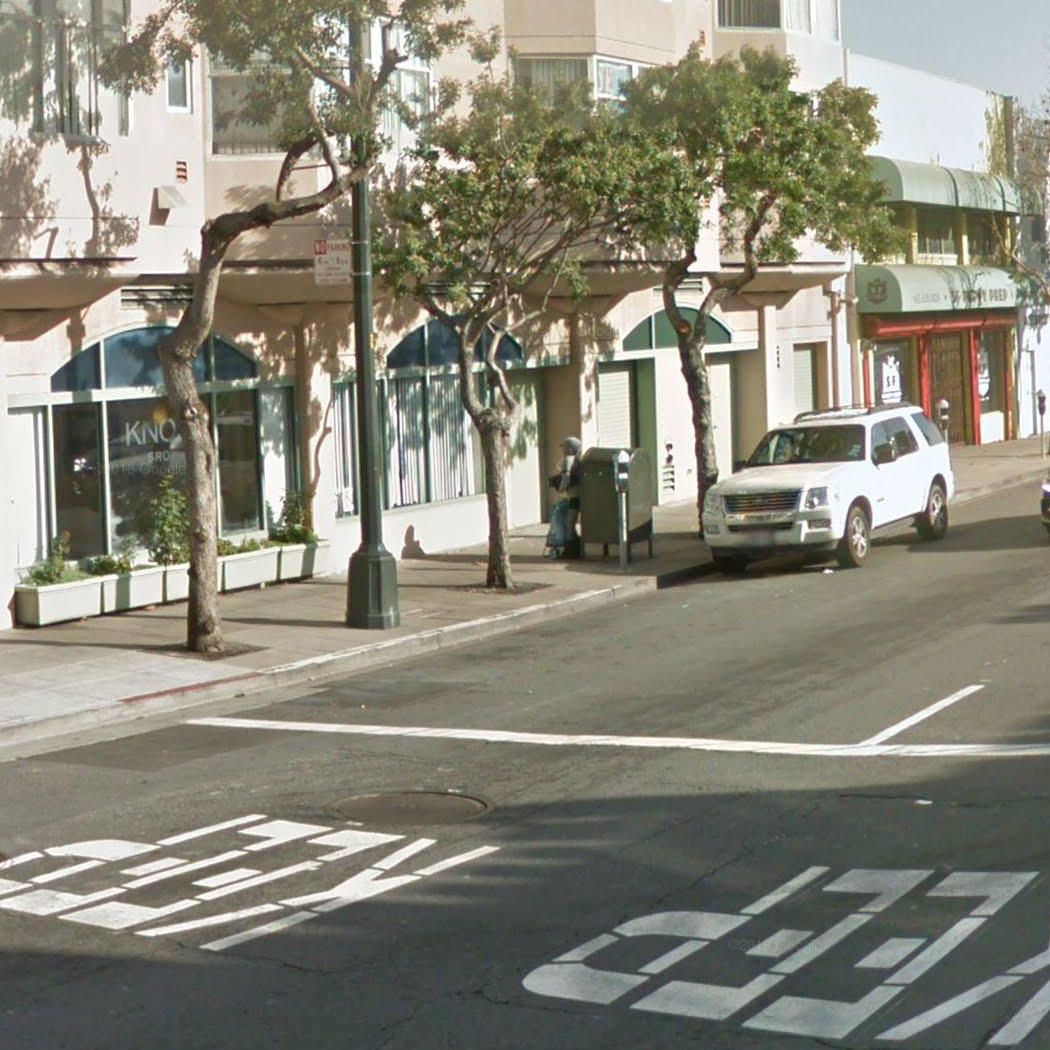No Parking: (312, 238, 353, 288)
